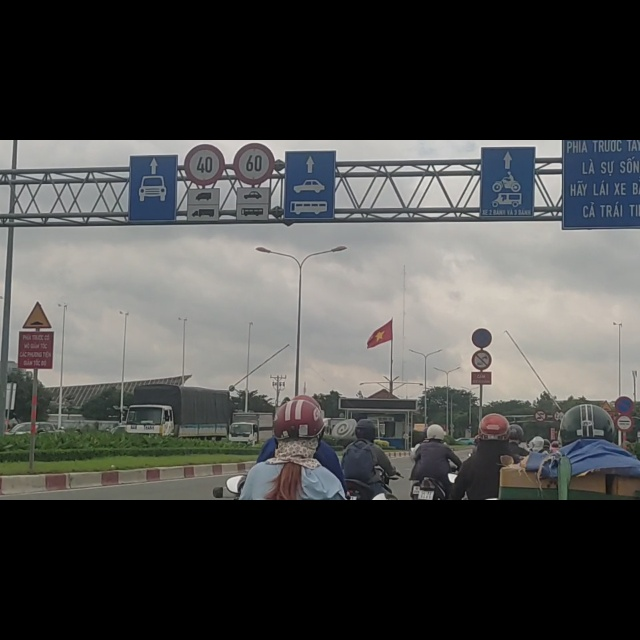bien_cam: (184, 7, 225, 83), (233, 6, 275, 79), (23, 286, 53, 337), (471, 373, 492, 408), (473, 334, 493, 370), (615, 456, 635, 487), (615, 488, 633, 518), (599, 462, 613, 482), (534, 479, 547, 500), (553, 480, 565, 501)
